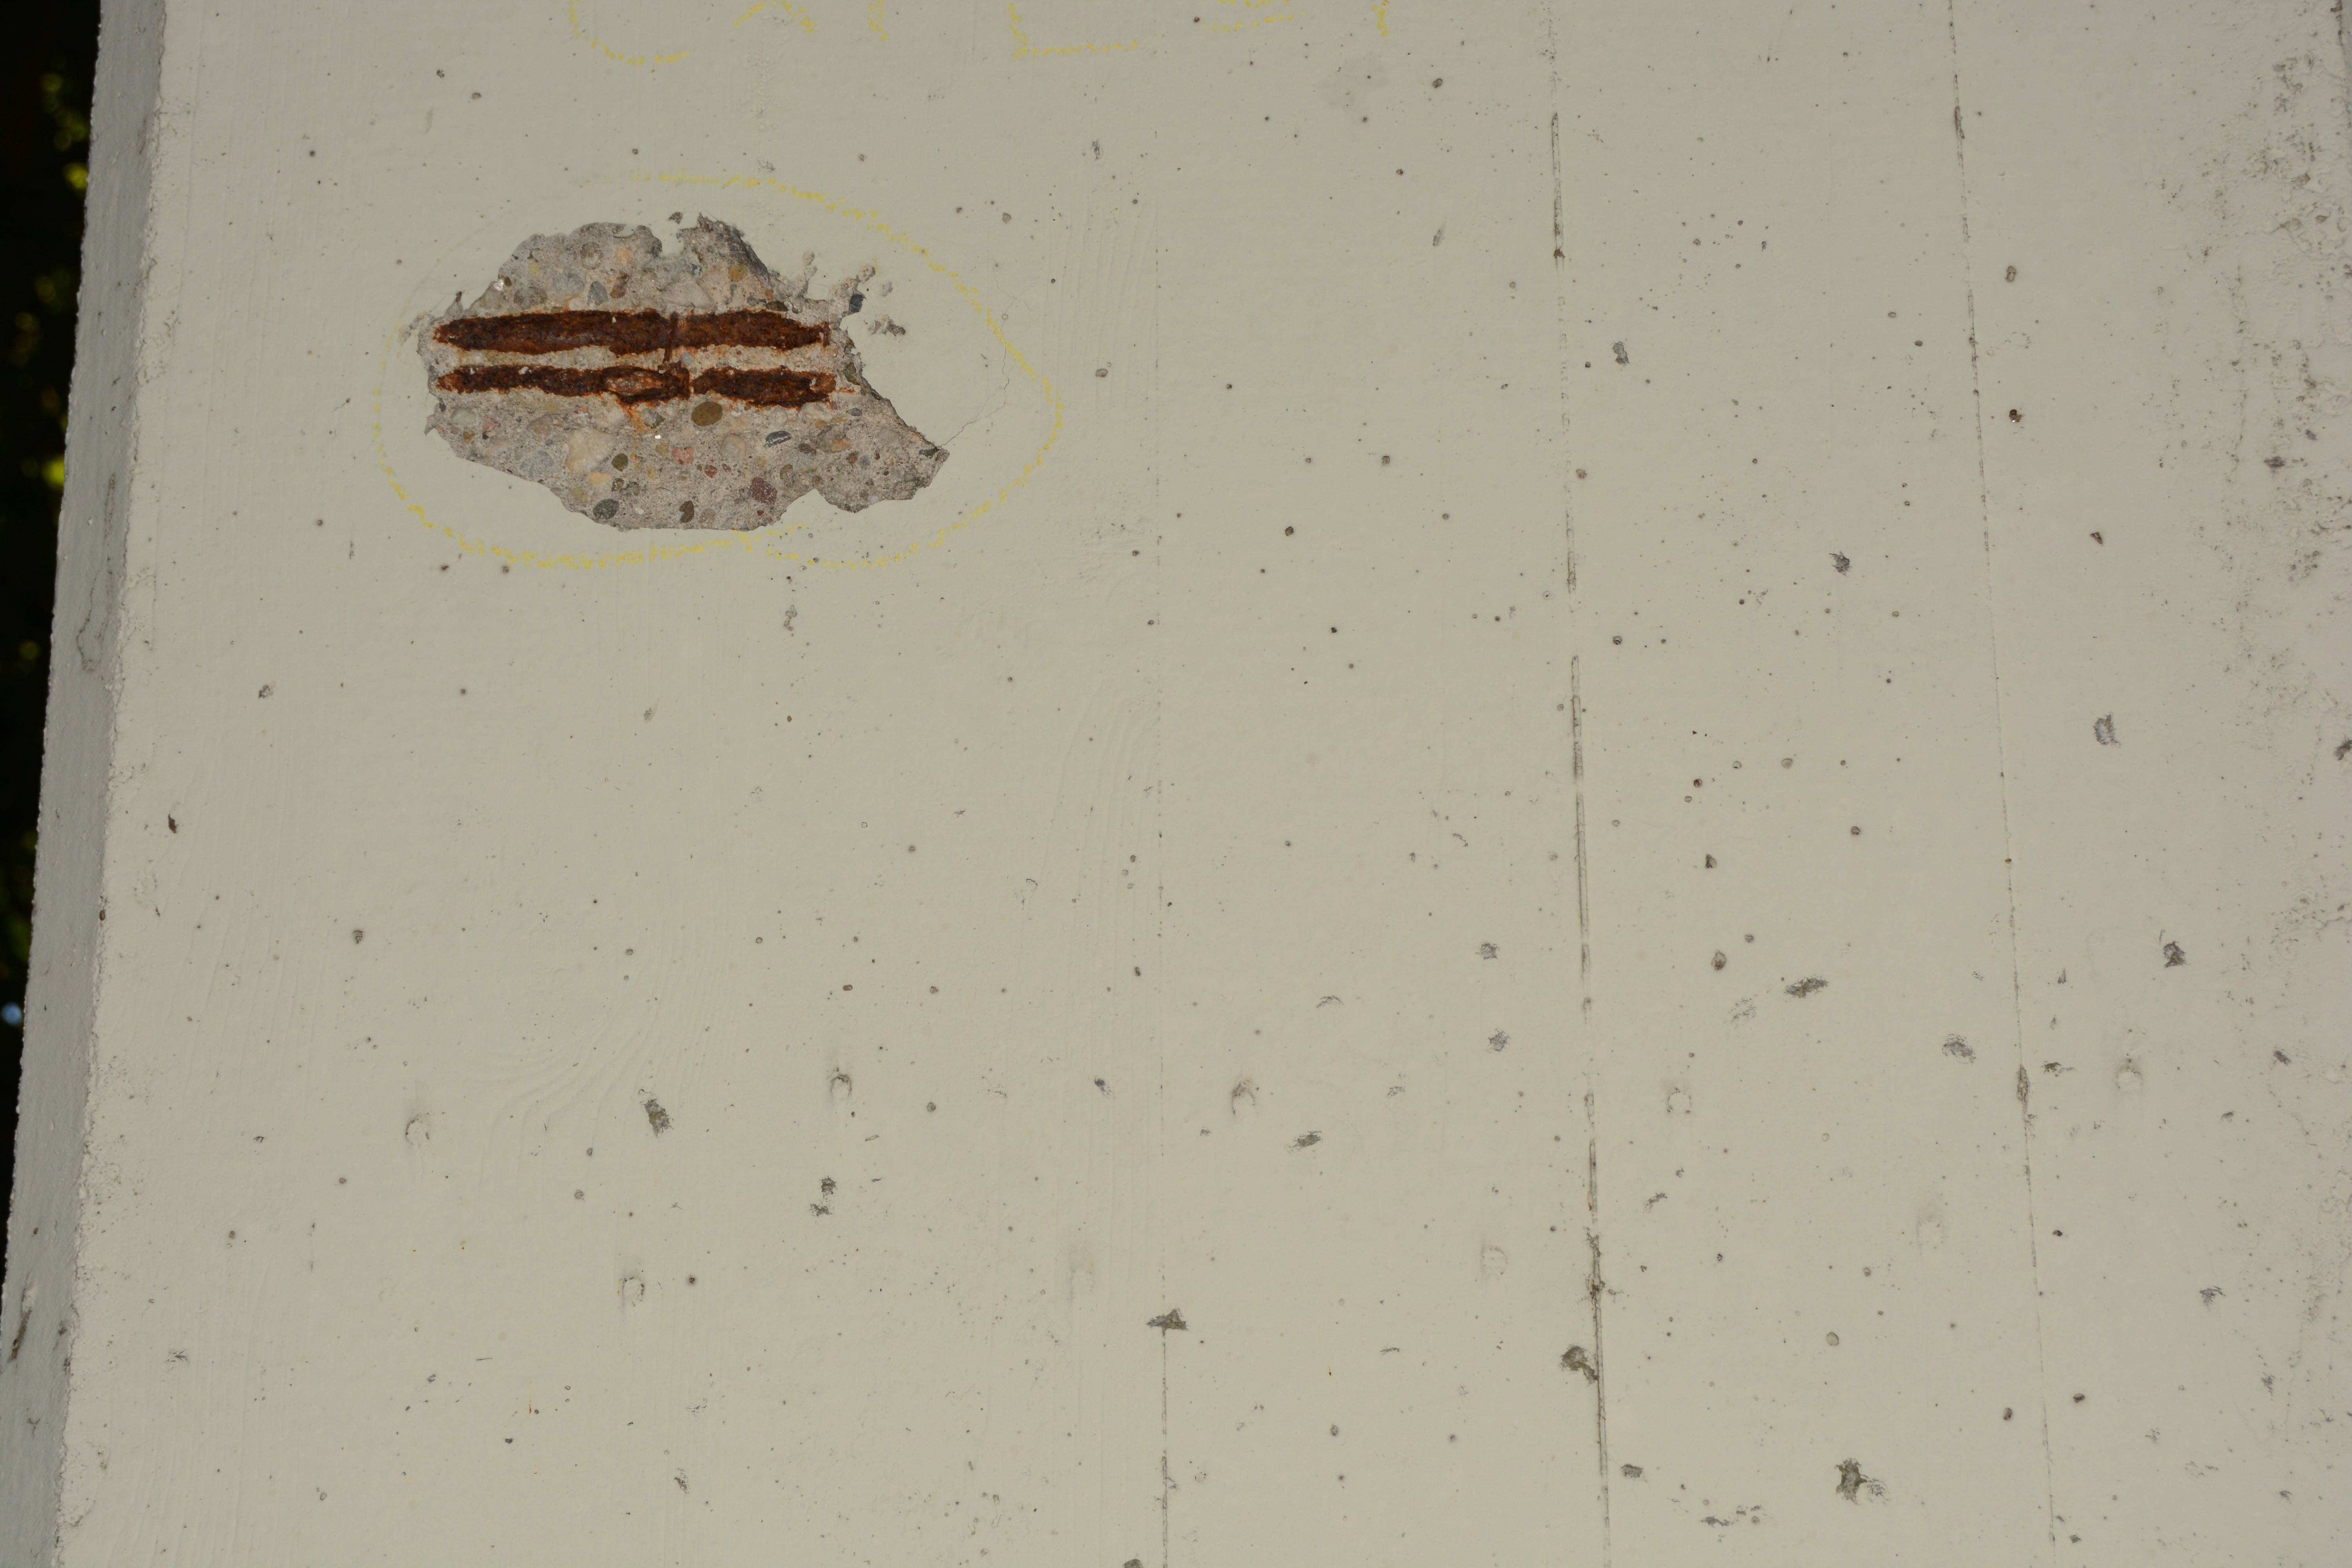Exposed reinforcement: (431, 308, 831, 357), (434, 361, 837, 406)
Spalling: (415, 212, 950, 532)
